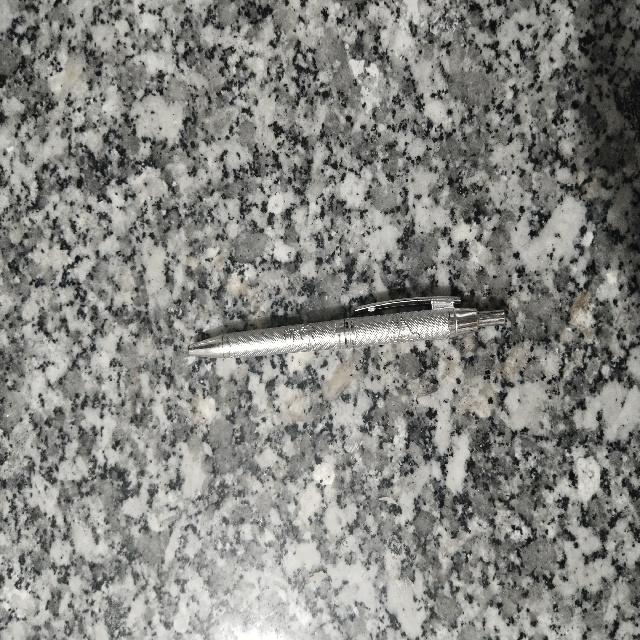signature pen: (189, 296, 504, 357)
